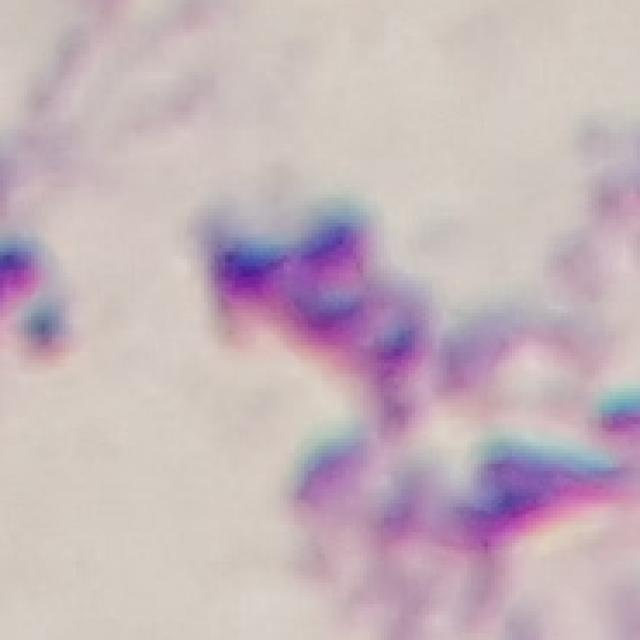non-sperm: (193, 214, 592, 546)
